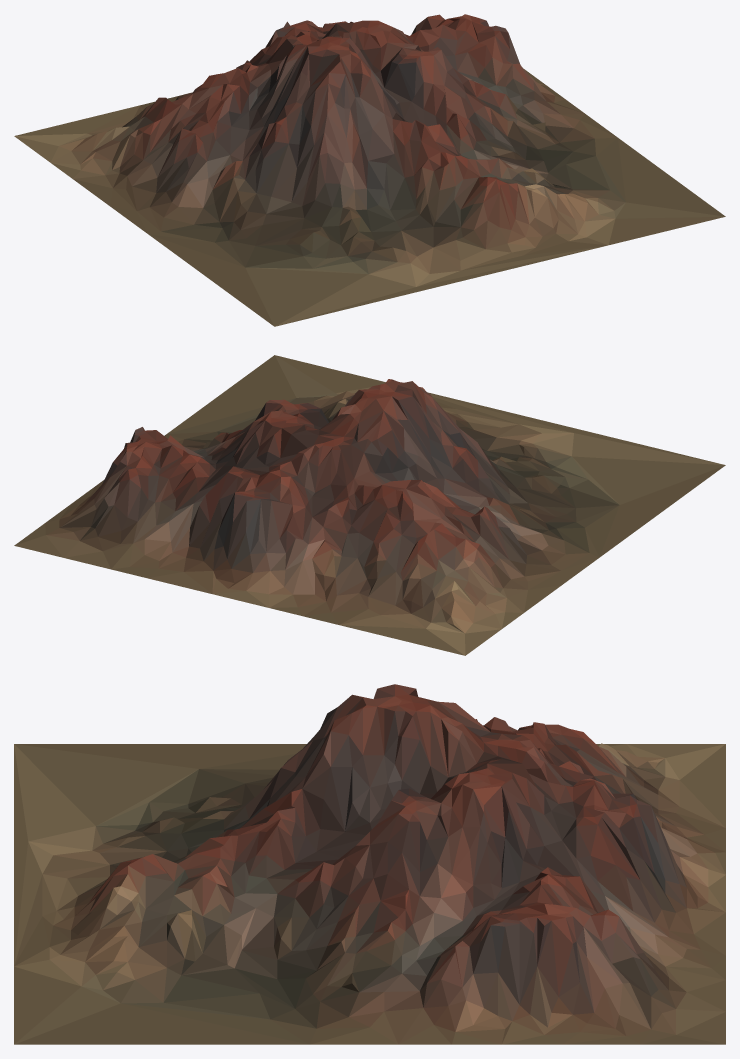
File: Dry-Rocky_C.fbx
3 views of the same model, one above another, from view 1: azimuth 30°, elevation 25°; view 2: azimuth 150°, elevation 25°; view 3: azimuth 270°, elevation 25° (orthographic). The views are drawn at different scales.
Parts seen in each view (by area): view 1: Dry-Rocky_C; view 2: Dry-Rocky_C; view 3: Dry-Rocky_C.
Part boxes in pixels (x1=…): Dry-Rocky_C: x1=14, y1=14, x2=725, y2=326; Dry-Rocky_C: x1=14, y1=355, x2=725, y2=655; Dry-Rocky_C: x1=14, y1=684, x2=725, y2=1044.
Bounding box in the file's own units: 10000 × 2721 × 10000.
